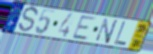4: (57, 13, 74, 39)
5: (34, 8, 57, 37)
E: (71, 15, 98, 42)
L: (113, 21, 128, 47)
N: (95, 18, 120, 45)
S: (17, 6, 39, 34)
